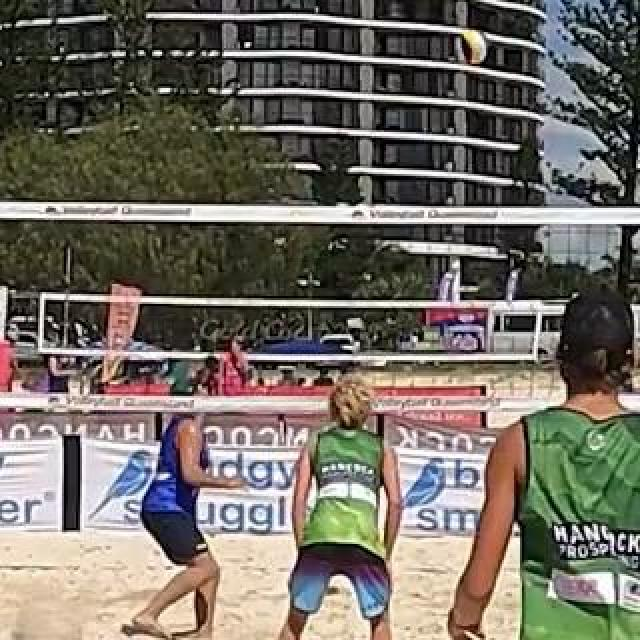volleyball: (457, 31, 487, 65)
